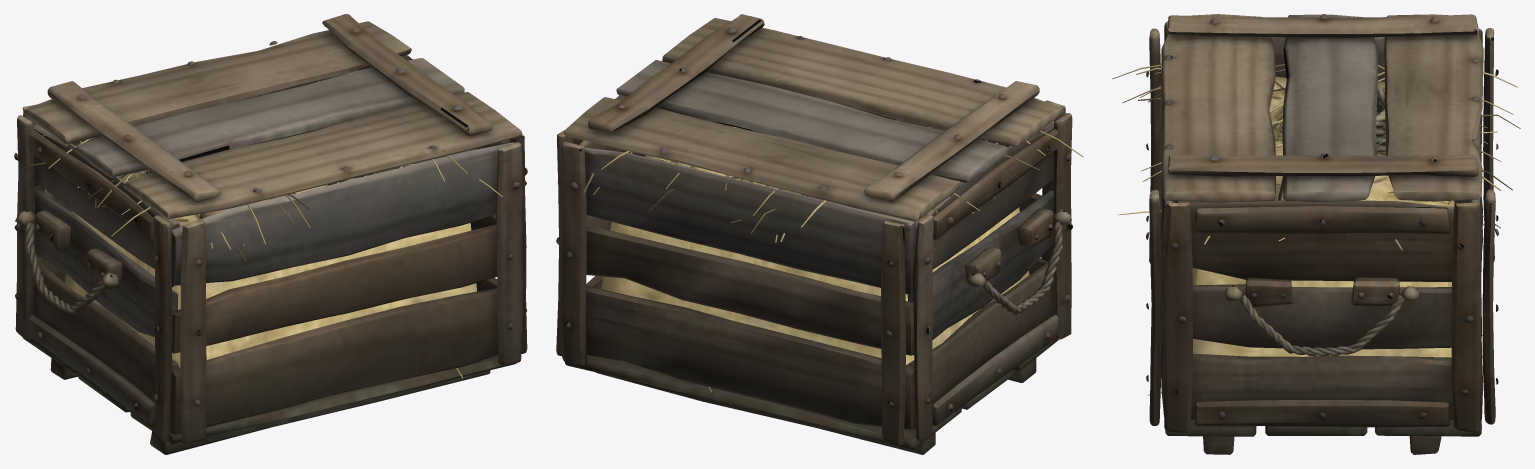
The model's file is crate-b.glb.
The picture shows the model from 3 angles, left to right: view 1: azimuth 30°, elevation 25°; view 2: azimuth 150°, elevation 25°; view 3: azimuth 270°, elevation 25°; orthographic projection. The views are drawn at different scales.
Visible parts, largest first — view 1: crate-b, Lid, Contents; view 2: crate-b, Lid, Contents; view 3: crate-b, Lid, Contents.
Part boxes in pixels (x1,y1,x2,y2): crate-b: (14,55,527,454); Lid: (24,14,522,219); Contents: (30,81,502,367); crate-b: (556,95,1072,454); Lid: (564,14,1063,221); Contents: (583,119,1083,364); crate-b: (1146,21,1498,454); Lid: (1161,14,1483,202); Contents: (1112,64,1520,357).
Bounding box in the file's own units: 0.7855 × 0.471 × 0.6095.
Materials: 1 (1 with a texture image).
